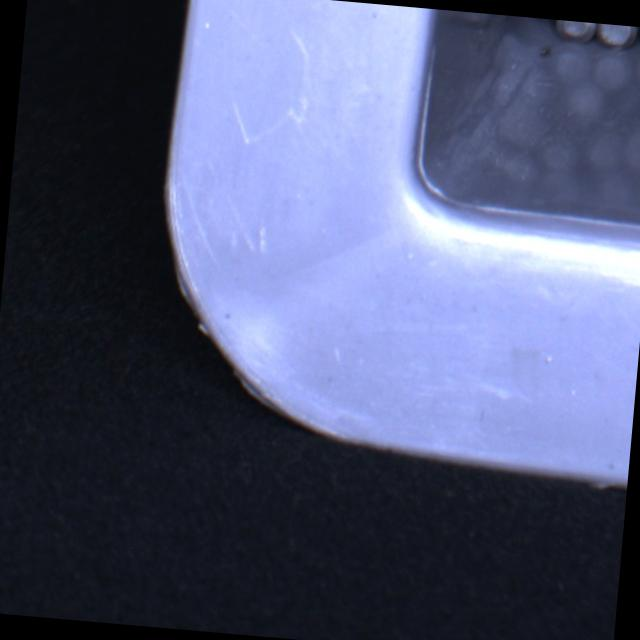tool: (552, 19, 596, 43), (596, 24, 639, 46), (632, 26, 640, 47)
